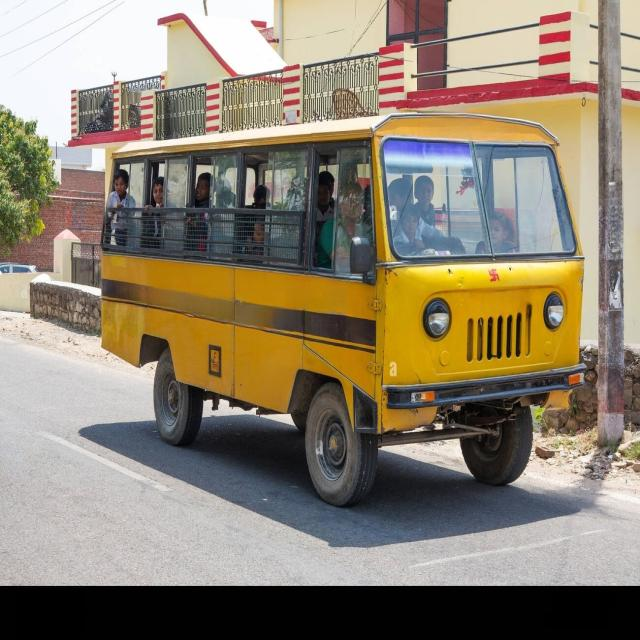bus: (102, 114, 585, 504)
